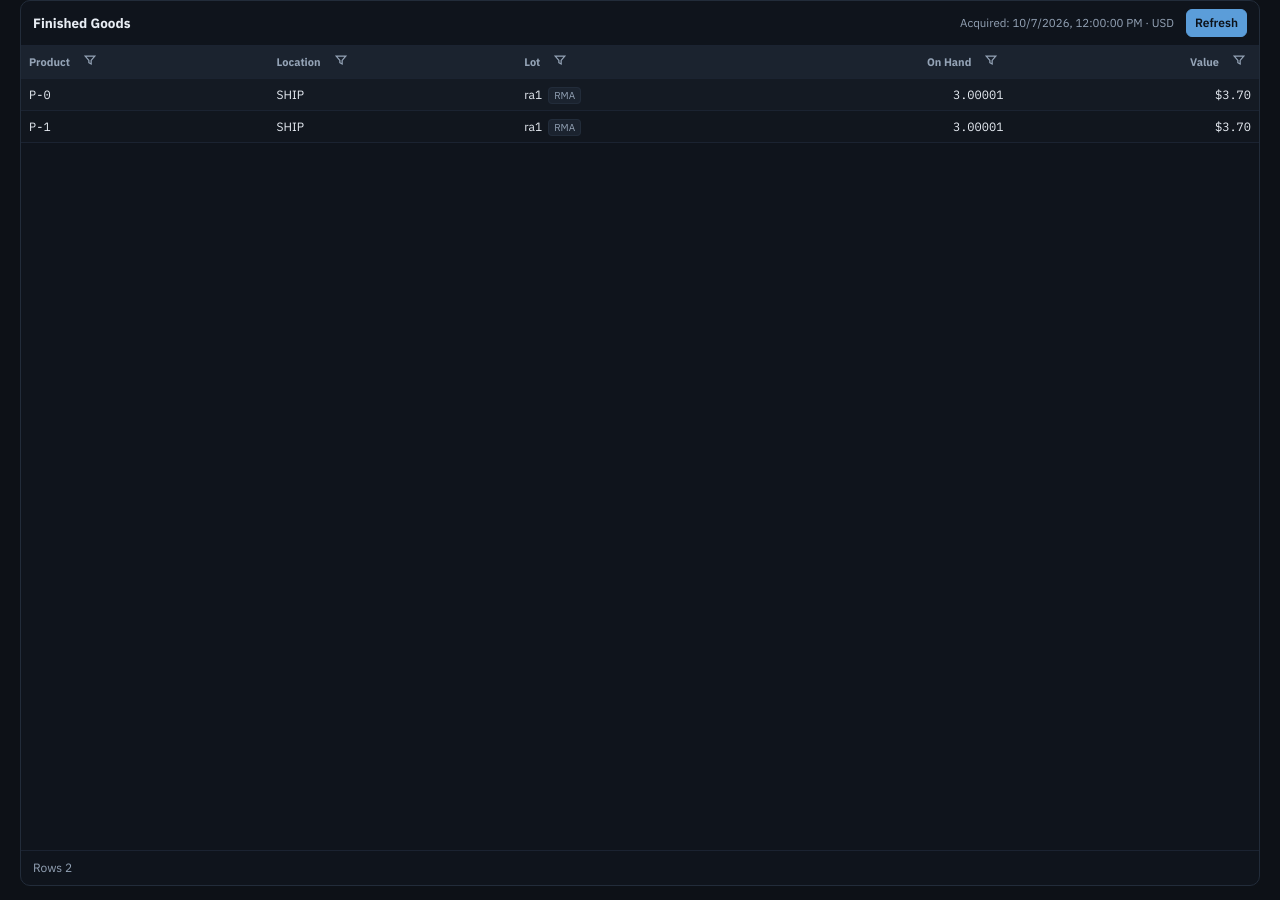
Test: Finished Goods panel (mocked only) › keeps original acquisition time on stale refresh and replaces it on success
Expected: the table is shown, [21,46,1259,143]
Click the button with aria-label "Refresh Finished Goods".
click(1216, 23)  # box [1186,9,1247,37]
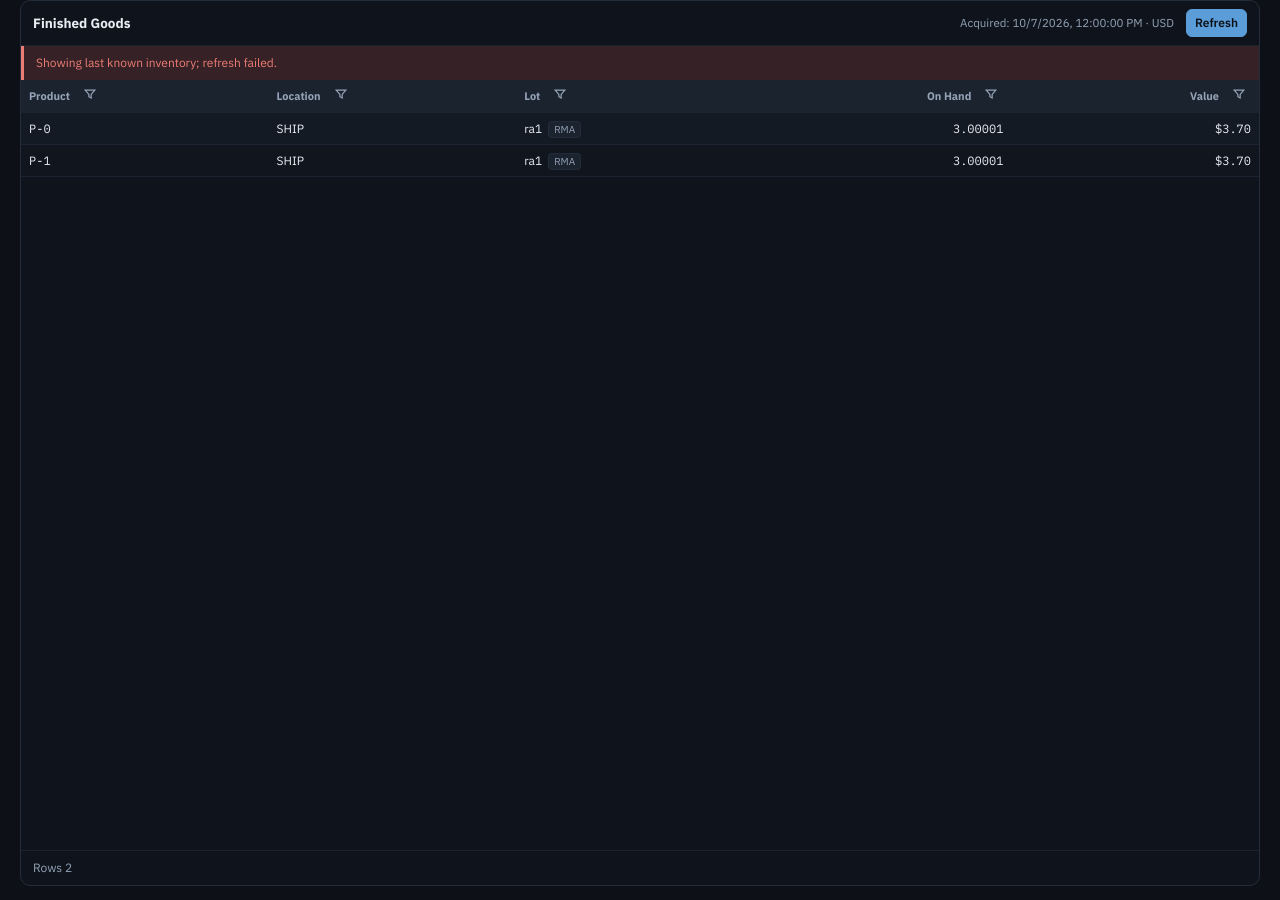
Now the message "Showing last known inventory; refresh failed." is shown, box [21,46,1259,80]
Click the button with aria-label "Refresh Finished Goods".
click(1216, 23)  # box [1186,9,1247,37]
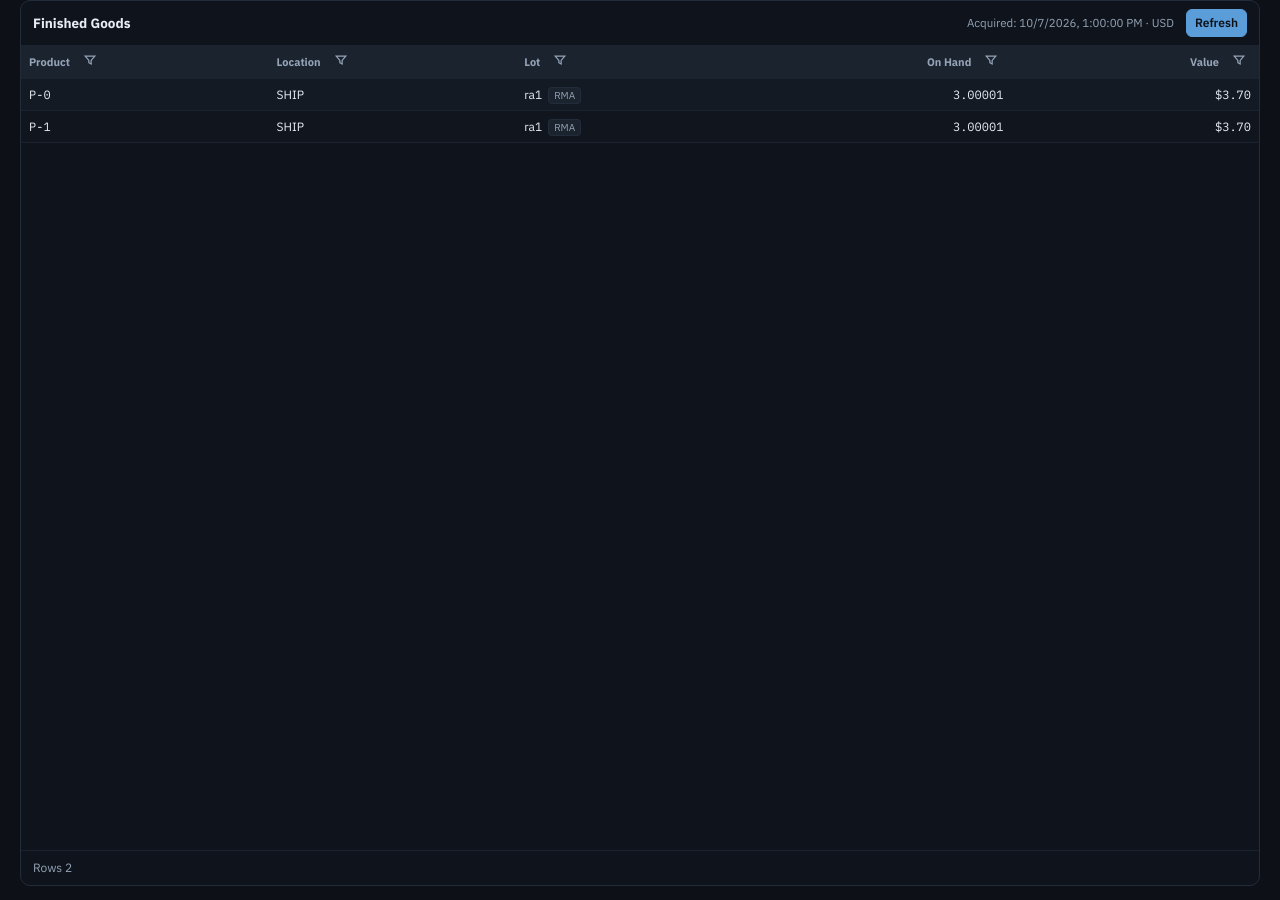
Now the message "Showing last known inventory; refresh failed." is gone
